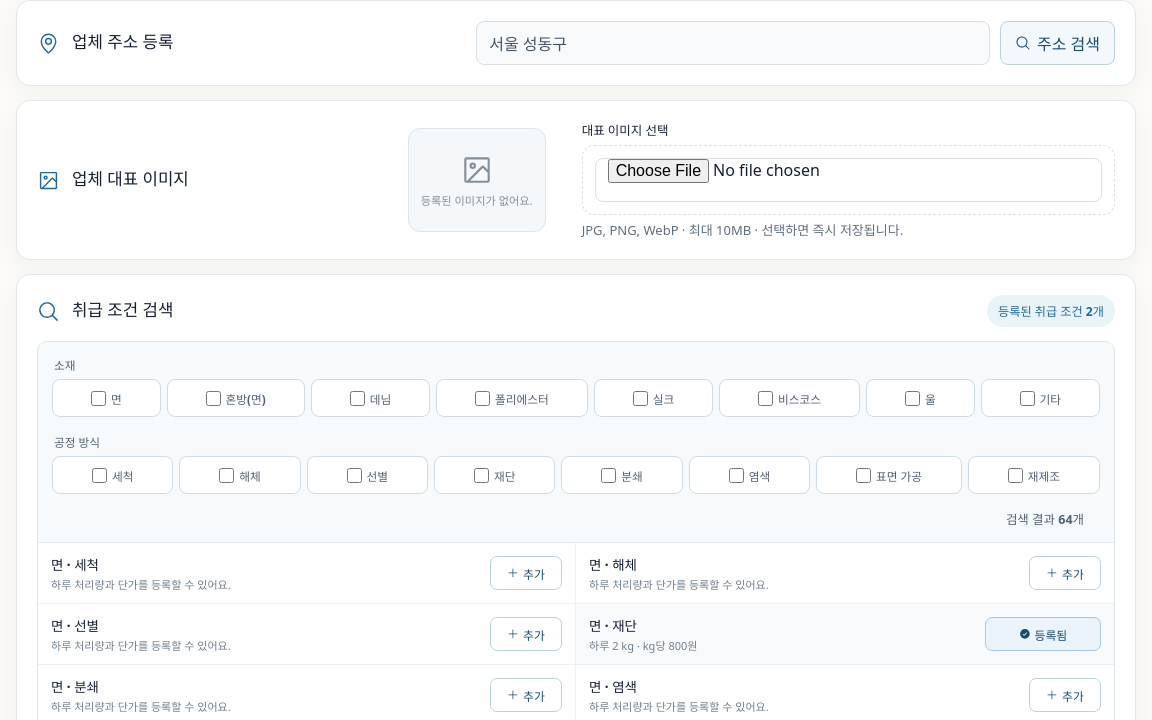
검색 결과의 추가 버튼으로 모달을 열고 새 조건을 적용한다
Expected: the heading "취급 조건 검색" is shown, [72, 297, 173, 321]
// 소재도 공정과 같은 체크박스다 — 여러 소재를 한 번에 훑어 조건을 한 벌로 적는다.
Click the checkbox labelled "실크" at [640, 398], box [633, 391, 648, 406]
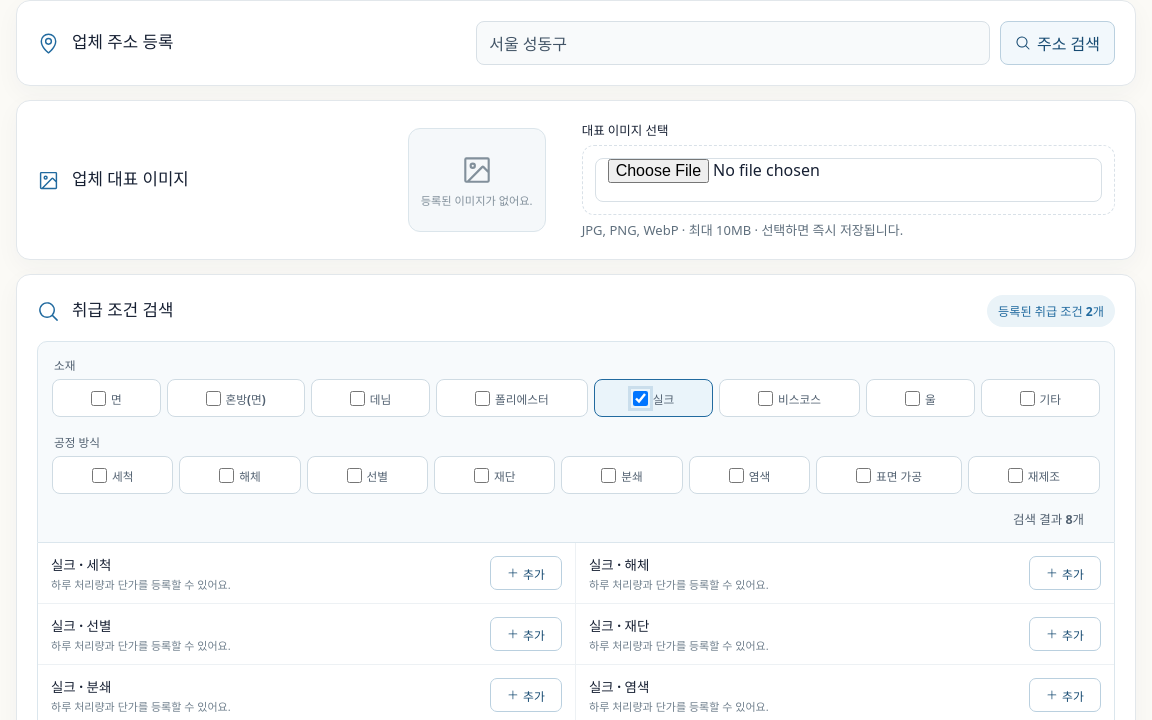
Click the checkbox labelled "세척" at [99, 475], box [92, 468, 107, 483]
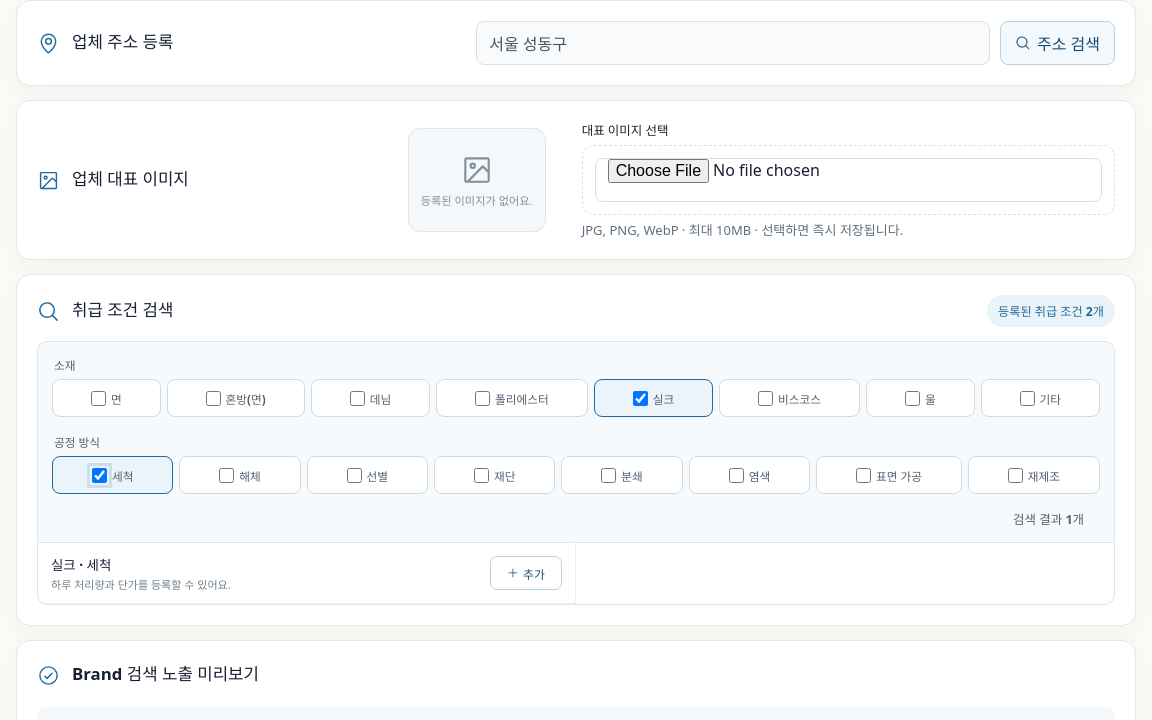
Click the button with aria-label "실크 · 세척 추가" at [526, 573], box [490, 556, 562, 590]
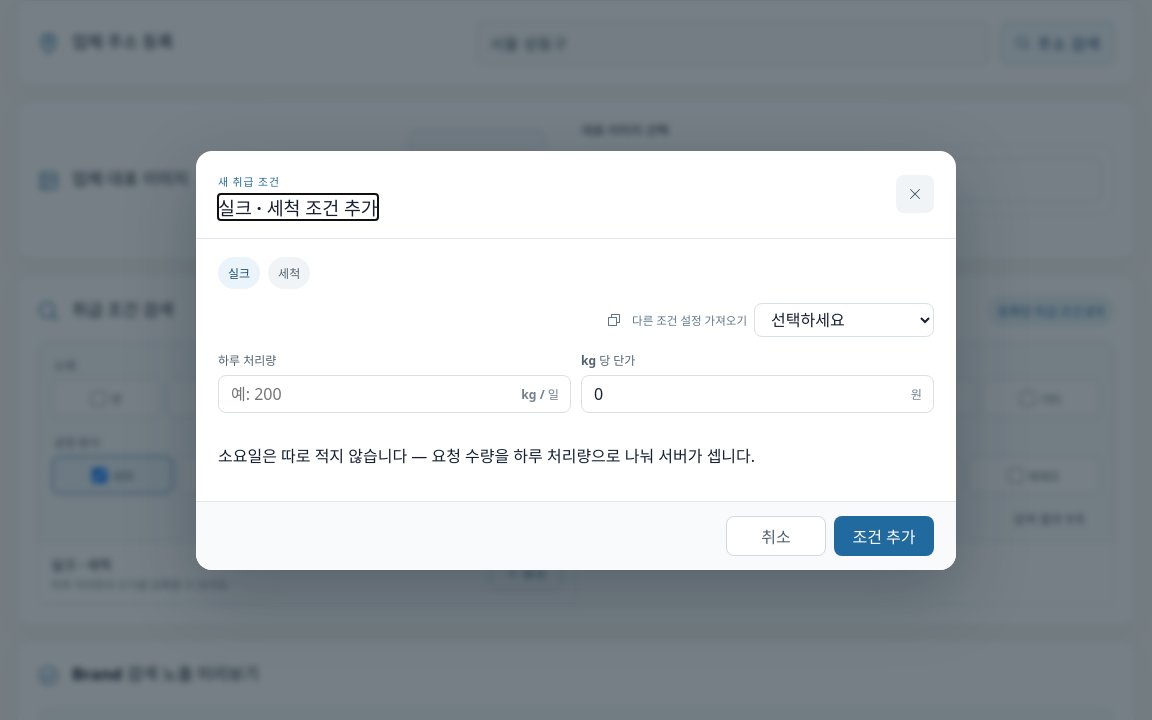
Expected: the text "등록된 취급 조건 2개" is shown, [987, 295, 1115, 327]
Result: the dialog "실크 · 세척 조건 추가" is shown at [196, 150, 956, 570]
// 하루 처리량과 단가 없이는 등록되지 않는다 — 그 둘이 브랜드가 보는 값이다.
Type "50" into the field labelled "하루 처리량" at [394, 394], box [218, 374, 571, 412]
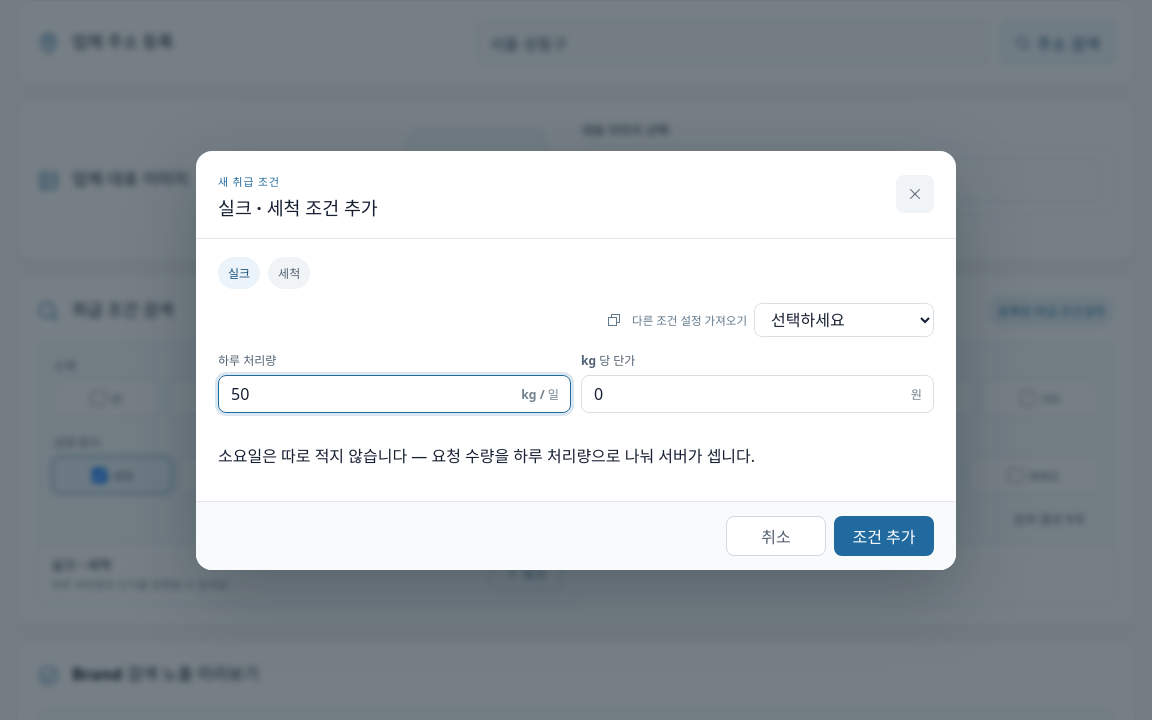
Type "4000" into the field labelled "kg 당 단가" at [758, 394], box [581, 374, 934, 412]
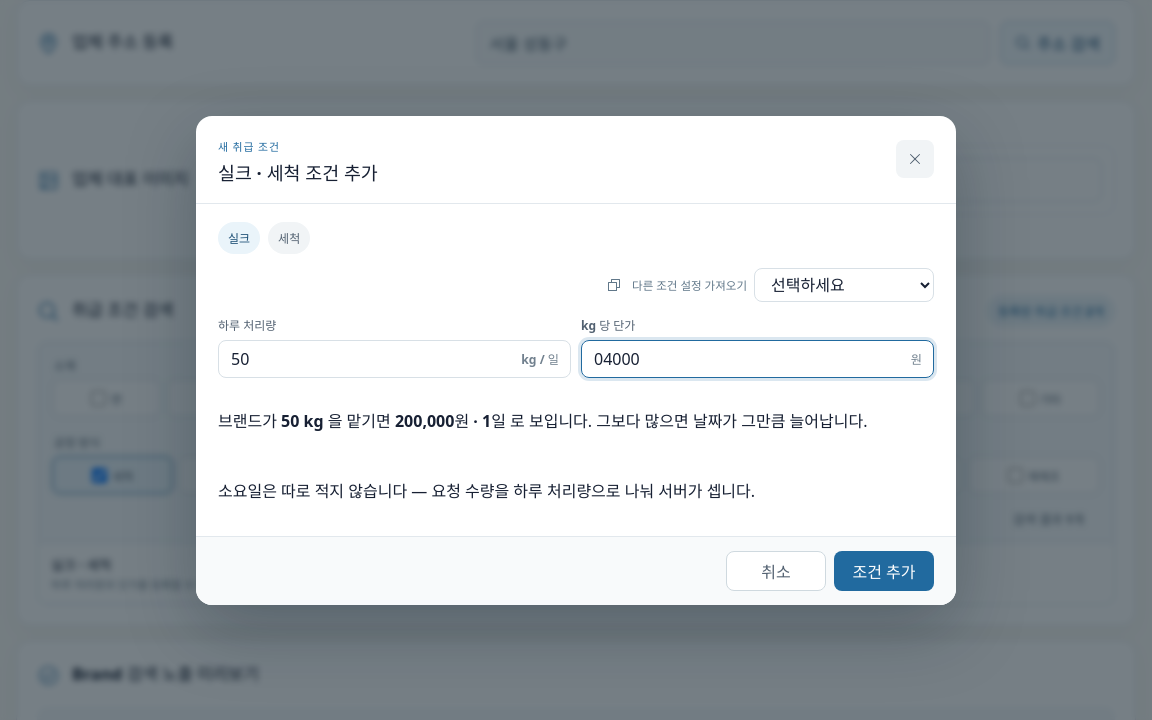
Click the button "조건 추가" at [884, 570], box [834, 550, 934, 590]
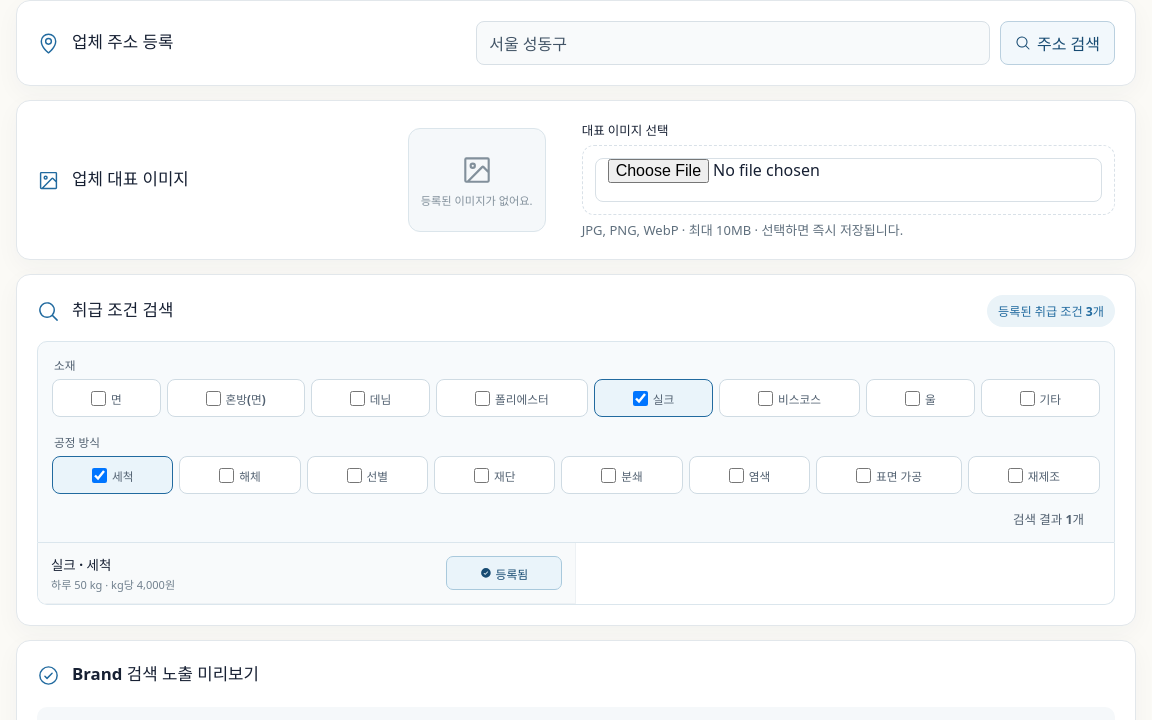
Expected: the button with aria-label "실크 · 세척 등록됨" is enabled, [446, 556, 562, 590]
Result: the text "등록된 취급 조건 3개" is shown at [987, 295, 1115, 327]
